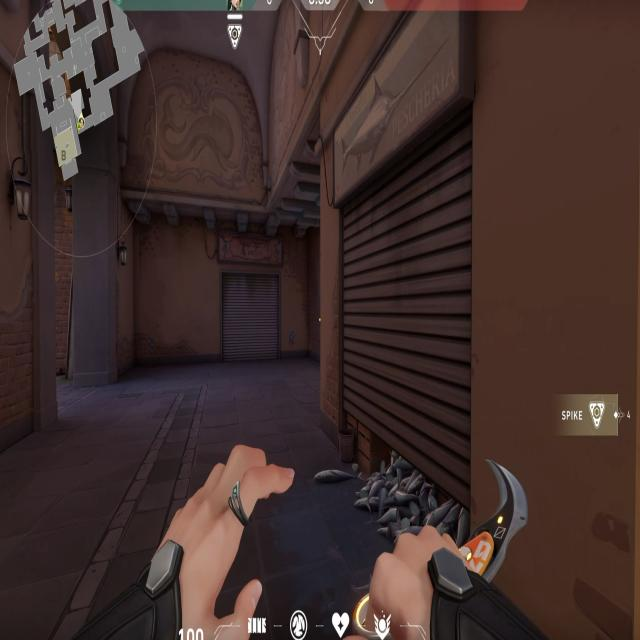B_Main_Corner: (308, 0, 558, 577)
